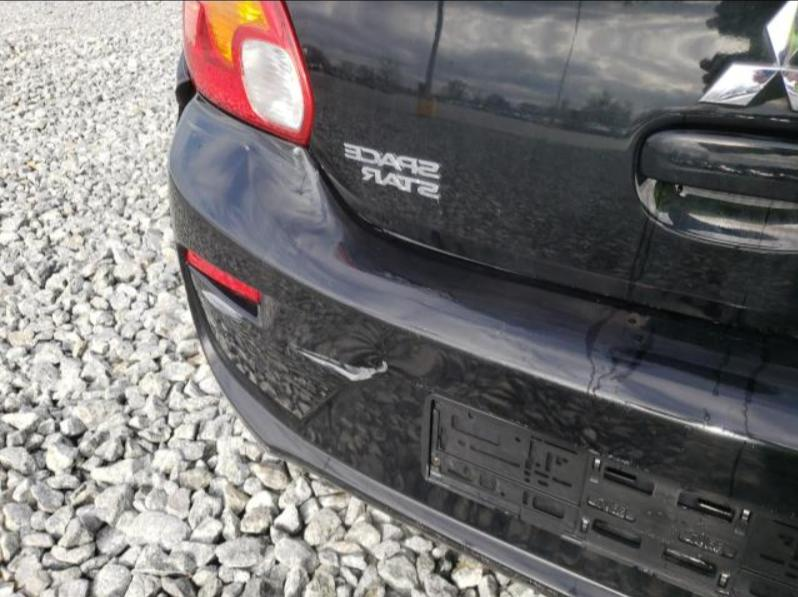Broken part: (187, 252, 260, 324), (171, 57, 202, 145)
Dent: (296, 322, 424, 407), (204, 128, 274, 209)
Missing part: (425, 397, 797, 596)
Paint chip: (290, 343, 390, 385), (235, 134, 257, 155), (289, 142, 304, 161)
